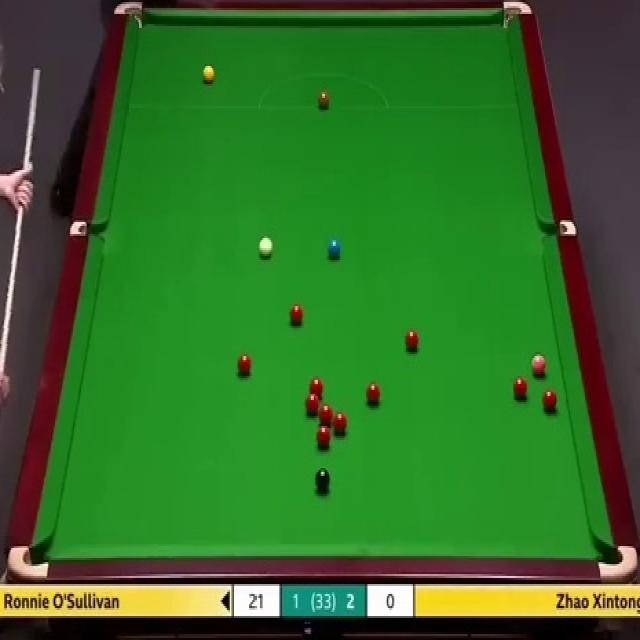black-ball: (316, 467, 331, 492)
blue-ball: (329, 237, 341, 260)
brown-ball: (317, 91, 331, 109)
pink-ball: (530, 353, 547, 375)
red-ball: (366, 380, 383, 408), (542, 388, 560, 412), (288, 305, 306, 326), (512, 375, 527, 400), (333, 410, 348, 434), (405, 328, 419, 352), (306, 393, 319, 418), (237, 351, 251, 374), (319, 407, 335, 427), (316, 426, 330, 448), (309, 378, 323, 399)
white-ball: (258, 235, 273, 258)
yellow-ball: (202, 64, 215, 86)
